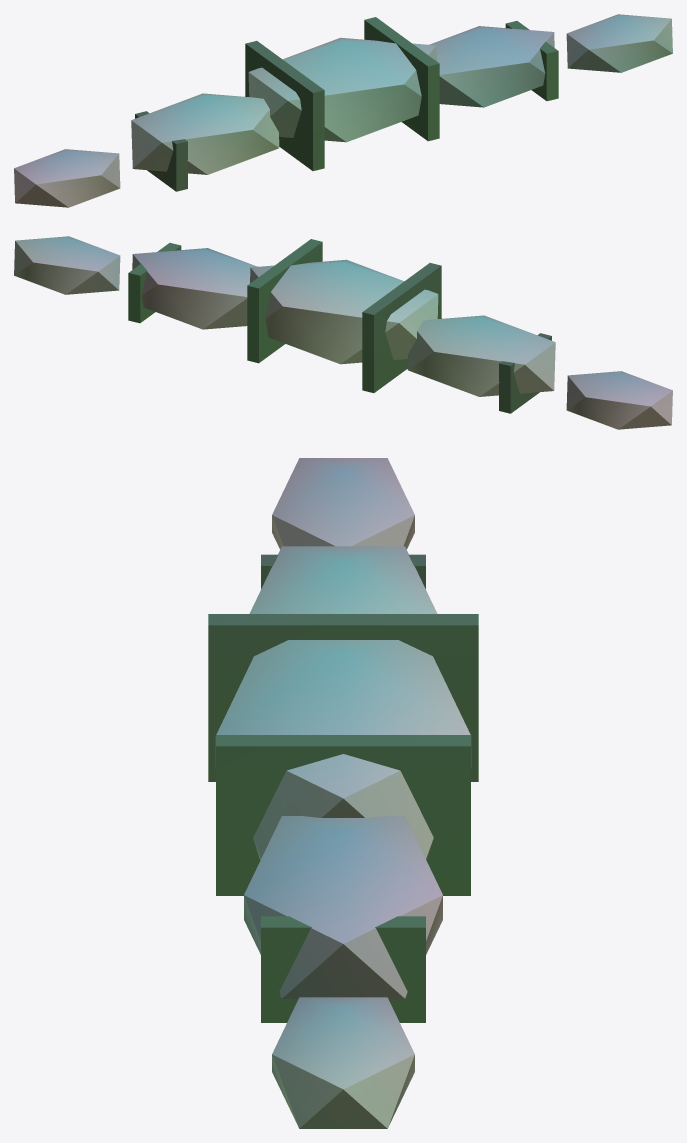
Rendered from shroud_dead.glb.
3 views of the same model, one above another, from view 1: azimuth 30°, elevation 25°; view 2: azimuth 150°, elevation 25°; view 3: azimuth 270°, elevation 25° (orthographic). The views are drawn at different scales.
Visible parts, largest first — view 1: shroud_dead, shroud_ropes; view 2: shroud_dead, shroud_ropes; view 3: shroud_dead, shroud_ropes.
Boxes of the visible parts, x1,y1,x2,y2 form: shroud_dead: (14, 14, 672, 207); shroud_ropes: (135, 17, 558, 191); shroud_dead: (14, 236, 672, 429); shroud_ropes: (128, 239, 551, 413); shroud_dead: (215, 458, 471, 1128); shroud_ropes: (208, 554, 478, 1022).
Bounding box in the file's own units: 2.02 × 0.288 × 0.36.
